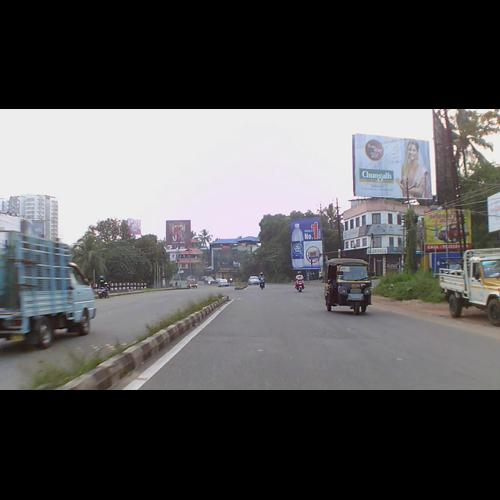car: (248, 276, 260, 286)
